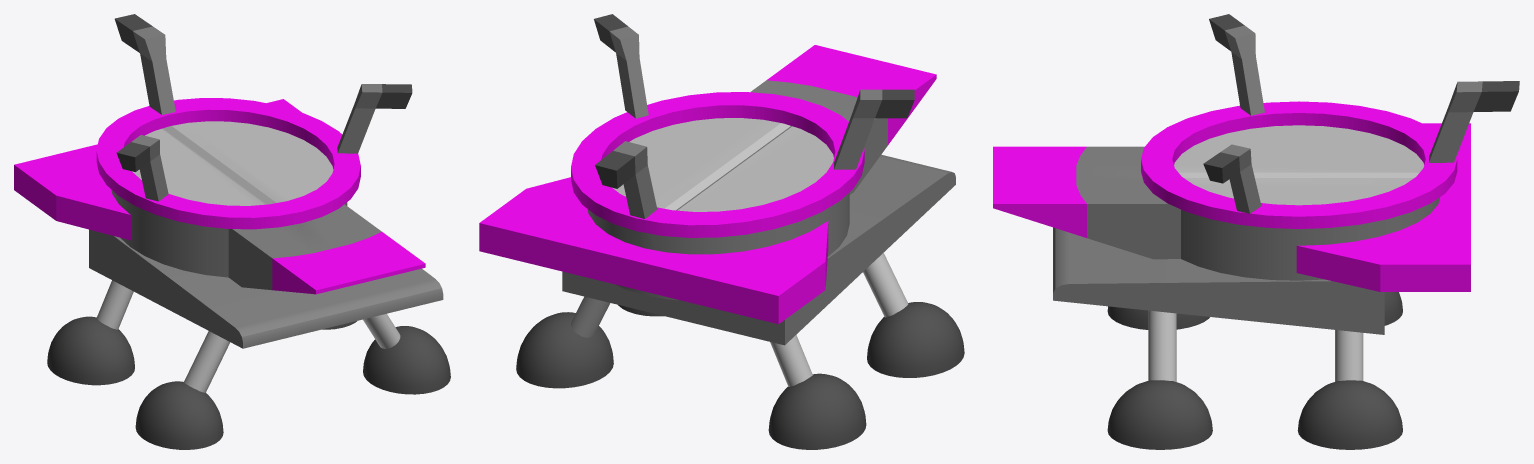
The model's file is StarPort.fbx.
The picture shows the model from 3 angles, left to right: view 1: azimuth 30°, elevation 25°; view 2: azimuth 150°, elevation 25°; view 3: azimuth 270°, elevation 25°; orthographic projection. The views are drawn at different scales.
Parts seen in each view (by area): view 1: Cylinder.050, Cube.039, Cylinder.051, Sphere.005, Cube.042, Cube.040, Sphere.004, Cylinder.053, Cylinder.052; view 2: Cylinder.050, Cube.040, Cylinder.051, Cube.039, Sphere.004, Cube.042, Sphere.005, Cylinder.052, Cylinder.053; view 3: Cylinder.050, Cube.039, Cylinder.051, Cube.040, Cube.042, Sphere.005, Sphere.004, Cylinder.053, Cylinder.052.
Part boxes in pixels (bbox=[...]): Cylinder.050: bbox=[111, 121, 425, 294]; Cube.039: bbox=[89, 229, 443, 348]; Cylinder.051: bbox=[96, 98, 360, 229]; Sphere.005: bbox=[135, 326, 450, 449]; Cube.042: bbox=[114, 14, 412, 201]; Cube.040: bbox=[14, 99, 301, 240]; Sphere.004: bbox=[47, 316, 356, 385]; Cylinder.053: bbox=[183, 313, 400, 393]; Cylinder.052: bbox=[96, 280, 133, 329]; Cylinder.050: bbox=[587, 45, 936, 300]; Cube.040: bbox=[479, 177, 828, 324]; Cylinder.051: bbox=[571, 92, 864, 237]; Cube.039: bbox=[562, 154, 955, 345]; Sphere.004: bbox=[516, 312, 866, 449]; Cube.042: bbox=[594, 14, 914, 218]; Sphere.005: bbox=[618, 302, 964, 377]; Cylinder.052: bbox=[571, 296, 812, 386]; Cylinder.053: bbox=[863, 253, 908, 317]; Cylinder.050: bbox=[993, 125, 1440, 280]; Cube.039: bbox=[1053, 227, 1384, 334]; Cylinder.051: bbox=[1141, 101, 1457, 228]; Cube.040: bbox=[1296, 123, 1470, 291]; Cube.042: bbox=[1203, 14, 1519, 213]; Sphere.005: bbox=[1107, 306, 1212, 449]; Sphere.004: bbox=[1297, 292, 1402, 449]; Cylinder.053: bbox=[1148, 310, 1176, 381]; Cylinder.052: bbox=[1335, 330, 1363, 381].
Bounding box in the file's own units: 218 × 183 × 308.
